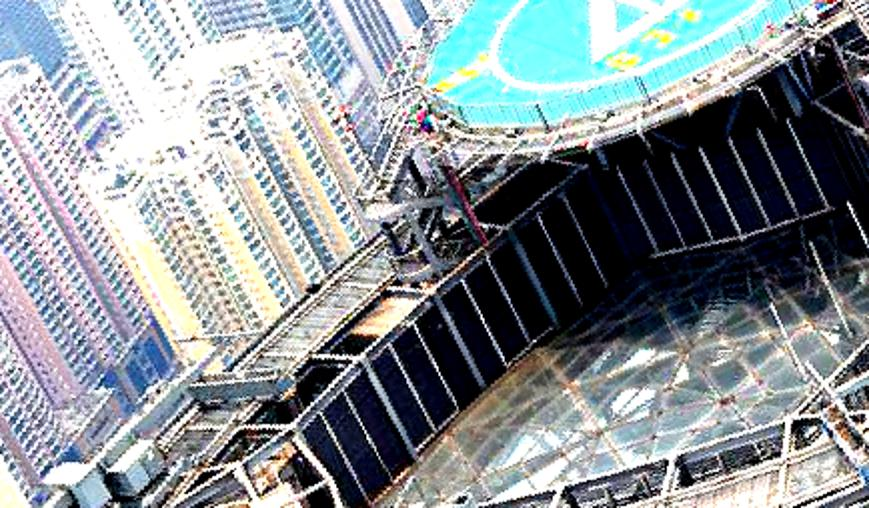Apron: (475, 1, 795, 95)
